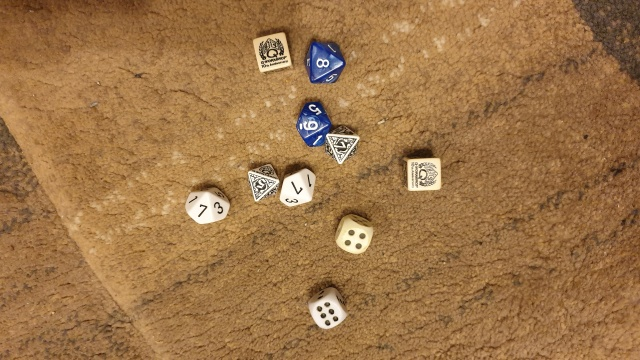d10-7: (183, 183, 231, 228), (277, 164, 316, 212)
d10-8: (305, 38, 343, 88)
d10-9: (294, 97, 332, 151)
d6-4: (334, 209, 374, 259)
d6-6: (305, 286, 352, 333)
d6p-6: (251, 31, 297, 77), (401, 154, 443, 194)
d8p-5: (245, 163, 281, 204)
d8p-7: (324, 124, 362, 168)
